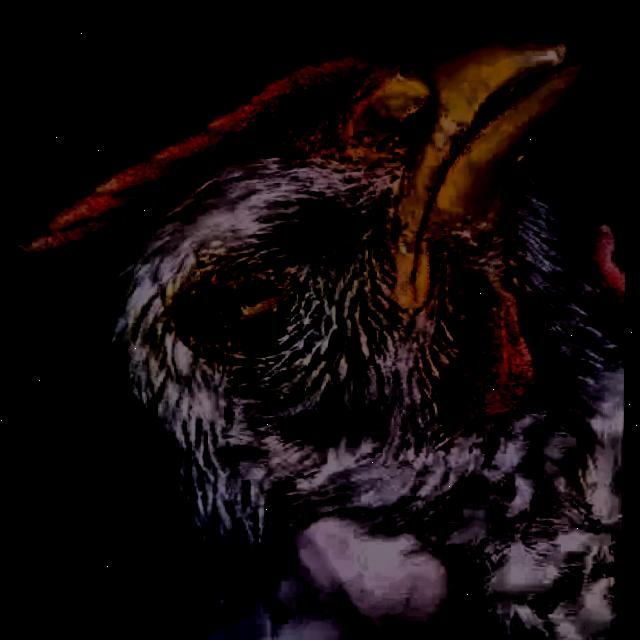Newcastle: (16, 31, 627, 635)
